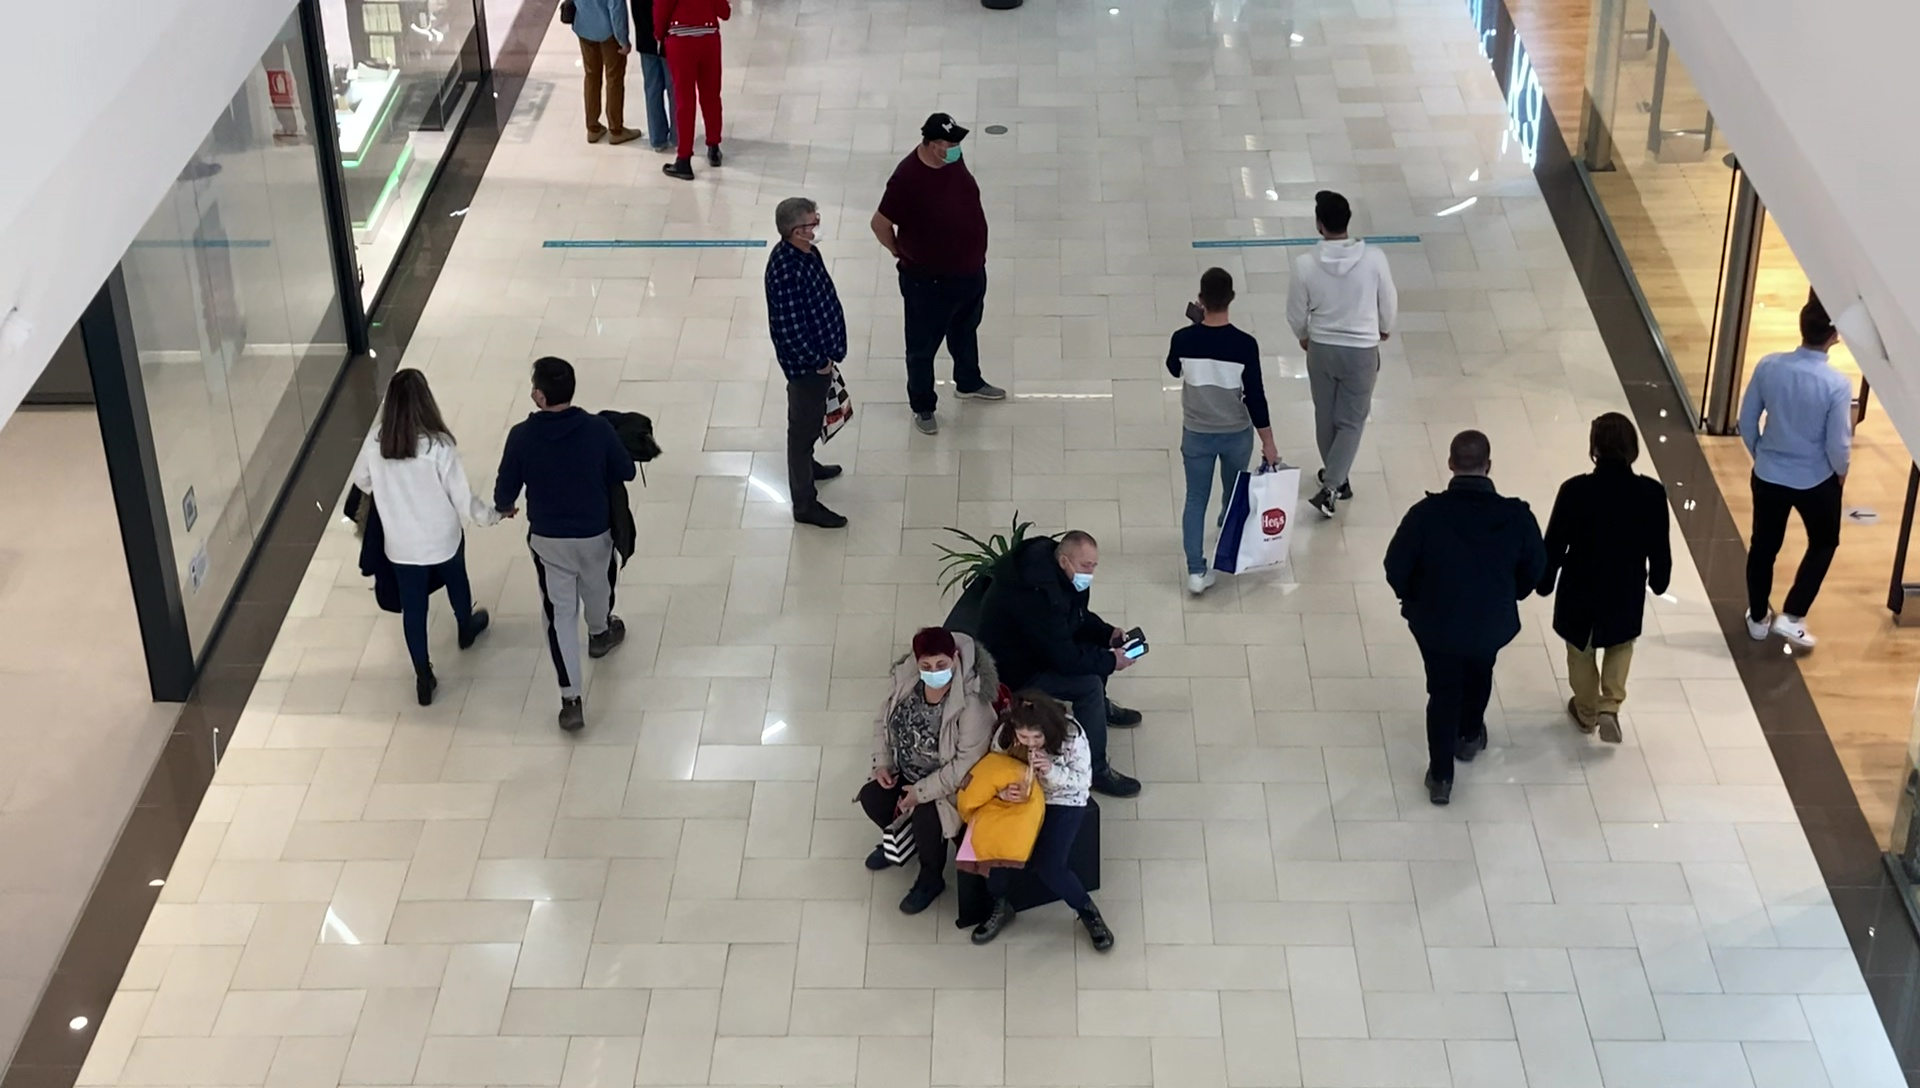person: (1385, 431, 1542, 806), (350, 367, 495, 710), (496, 356, 628, 732), (870, 113, 1006, 434), (1544, 411, 1671, 745), (1740, 303, 1852, 653), (1284, 189, 1400, 514), (1168, 268, 1274, 596), (764, 199, 855, 529), (652, 1, 734, 180), (558, 1, 642, 145)
